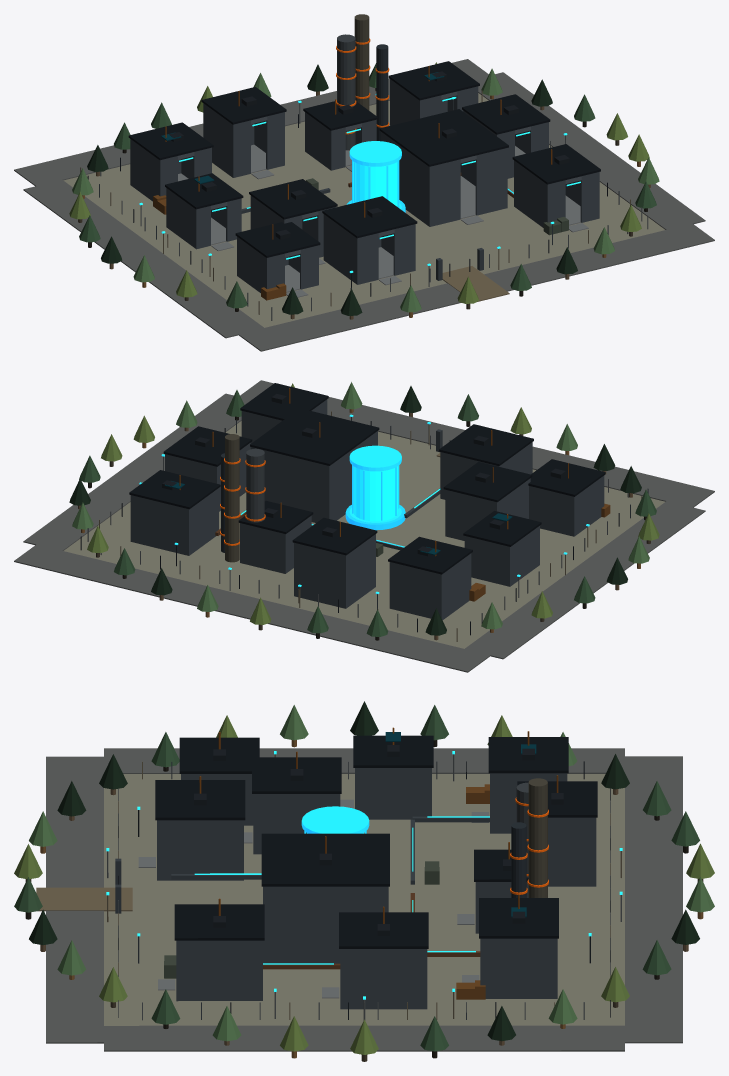
Rendered from Plant.glb.
3 views of the same model, one above another, from view 1: azimuth 30°, elevation 25°; view 2: azimuth 150°, elevation 25°; view 3: azimuth 270°, elevation 25° (orthographic). The views are drawn at different scales.
Visible parts, largest first — view 1: PlantGround, RoadSouth, RoadWest, RoadEast, CenterRight_Roof, RoadNorth, SouthMid_Roof, CenterRight_Side-1, East_Roof, CenterRight_Front1, WestMid_Roof, SE_Roof (+34 smaller); view 2: PlantGround, RoadNorth, RoadWest, RoadSouth, RoadEast, CenterRight_Roof, CenterRight_Rear, North_Rear, NE_Rear, NW_Rear, SouthMid_Roof, ReactorTank (+30 smaller); view 3: PlantGround, RoadNorth, RoadSouth, RoadEast, CenterRight_Side1, CenterRight_Roof, RoadWest, SE_Side1, East_Side1, SouthMid_Side1, NE_Side1, West_Side1 (+46 smaller).
Boxes of the visible parts, left/top/right/bottom form: PlantGround: left=63, top=93, right=664, bottom=327; RoadSouth: left=238, top=223, right=714, bottom=351; RoadWest: left=23, top=180, right=263, bottom=338; RoadEast: left=474, top=72, right=705, bottom=229; CenterRight_Roof: left=379, top=109, right=508, bottom=166; RoadNorth: left=14, top=59, right=488, bottom=186; SouthMid_Roof: left=322, top=196, right=417, bottom=238; CenterRight_Side-1: left=381, top=132, right=431, bottom=226; East_Roof: left=462, top=94, right=550, bottom=134; CenterRight_Front1: left=475, top=148, right=507, bottom=215; WestMid_Roof: left=249, top=179, right=337, bottom=219; SE_Roof: left=512, top=144, right=600, bottom=184; PlantGround: left=64, top=421, right=665, bottom=648; RoadNorth: left=14, top=544, right=490, bottom=672; RoadWest: left=465, top=501, right=705, bottom=659; RoadSouth: left=240, top=380, right=714, bottom=507; RoadEast: left=23, top=393, right=251, bottom=550; CenterRight_Roof: left=250, top=408, right=379, bottom=465; CenterRight_Rear: left=251, top=447, right=330, bottom=522; North_Rear: left=294, top=542, right=347, bottom=608; NE_Rear: left=130, top=495, right=190, bottom=555; NW_Rear: left=389, top=562, right=442, bottom=619; SouthMid_Roof: left=439, top=424, right=533, bottom=465; ReactorTank: left=354, top=466, right=398, bottom=521; PlantGround: left=104, top=774, right=624, bottom=1025; RoadNorth: left=625, top=756, right=682, bottom=1043; RoadSouth: left=46, top=756, right=103, bottom=1043; RoadEast: left=104, top=1025, right=624, bottom=1051; CenterRight_Side1: left=263, top=886, right=388, bottom=963; CenterRight_Roof: left=261, top=833, right=389, bottom=886; RoadWest: left=104, top=748, right=624, bottom=773; SE_Side1: left=176, top=940, right=262, bottom=1000; East_Side1: left=340, top=949, right=427, bottom=1009; SouthMid_Side1: left=157, top=820, right=243, bottom=880; NE_Side1: left=480, top=938, right=557, bottom=998; West_Side1: left=355, top=768, right=431, bottom=819.
Size of the model in its own units: 81 by 18.42 by 72.62.
